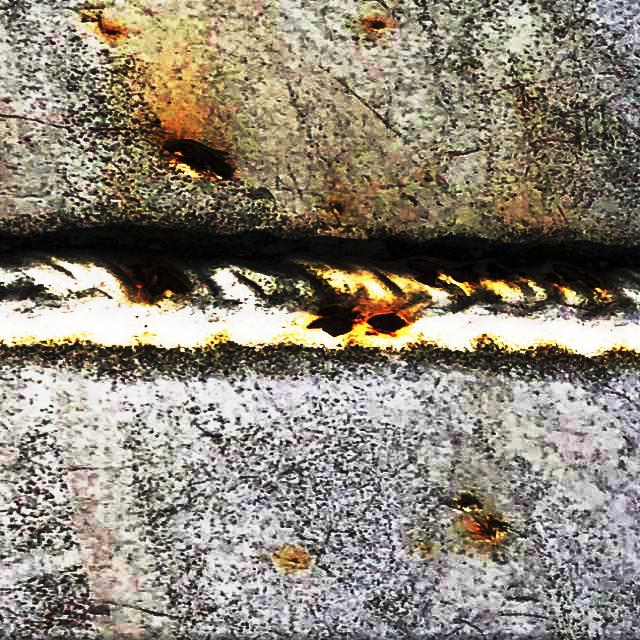Corrosion: (395, 253, 611, 305), (297, 297, 419, 345), (110, 249, 208, 305), (154, 135, 237, 185), (447, 496, 508, 543), (93, 16, 121, 38), (362, 16, 386, 31), (324, 202, 343, 217)
